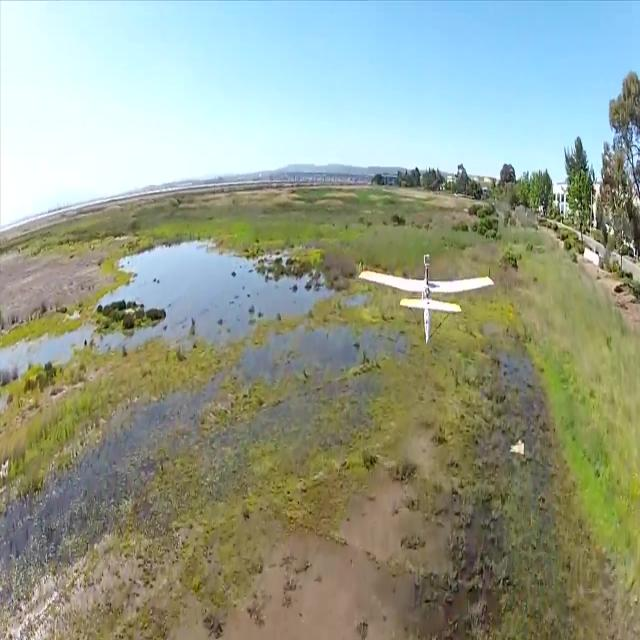iha: (360, 284, 493, 313)
